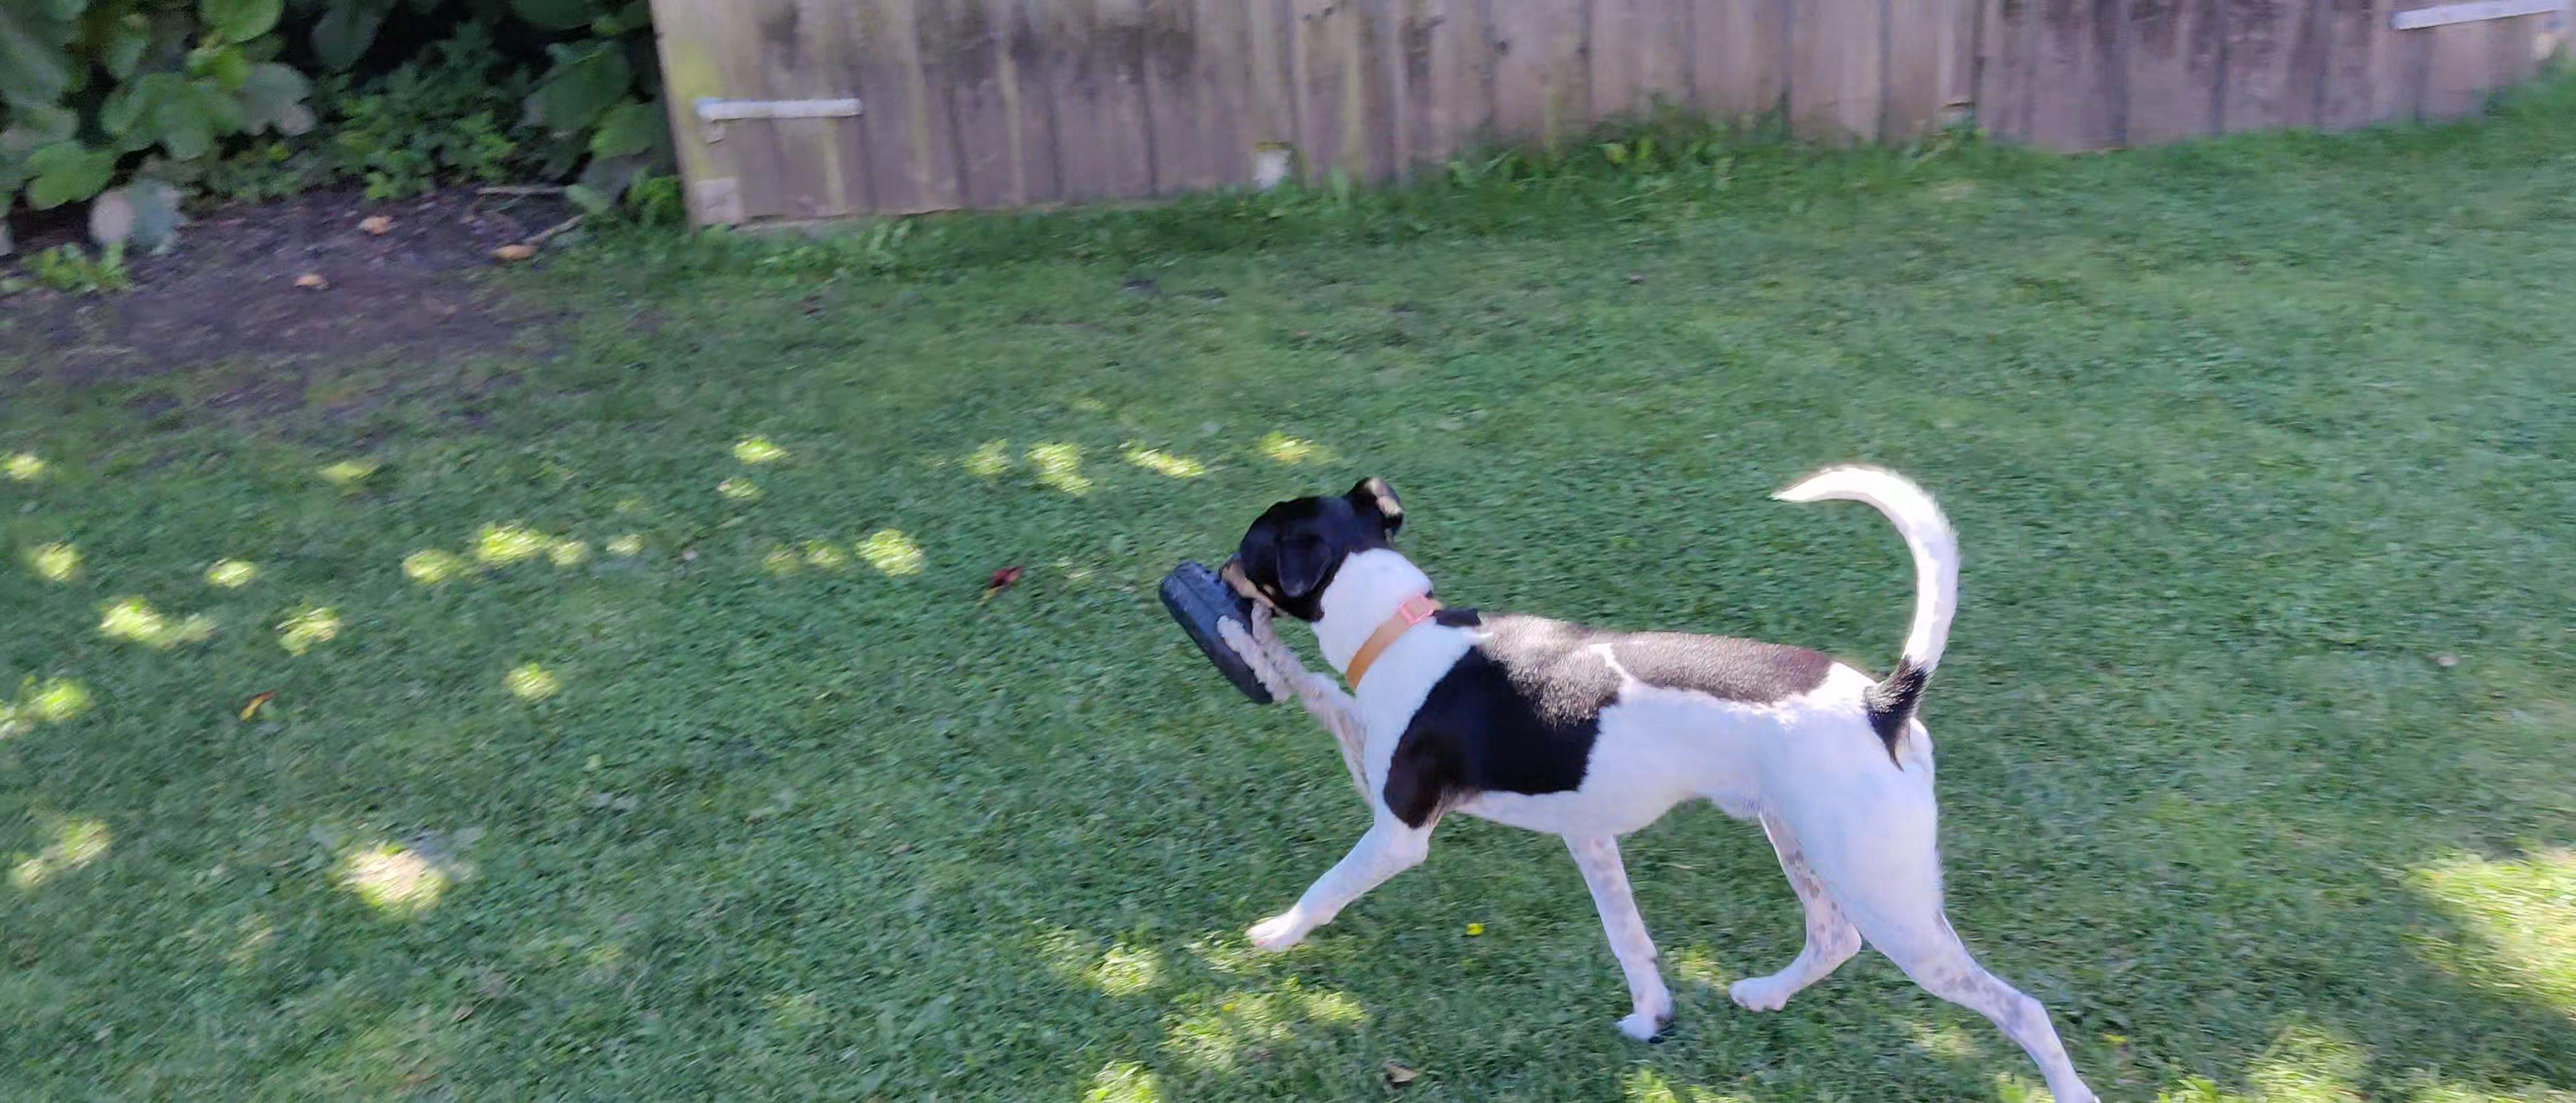Dog: (1211, 452, 2116, 1103)
